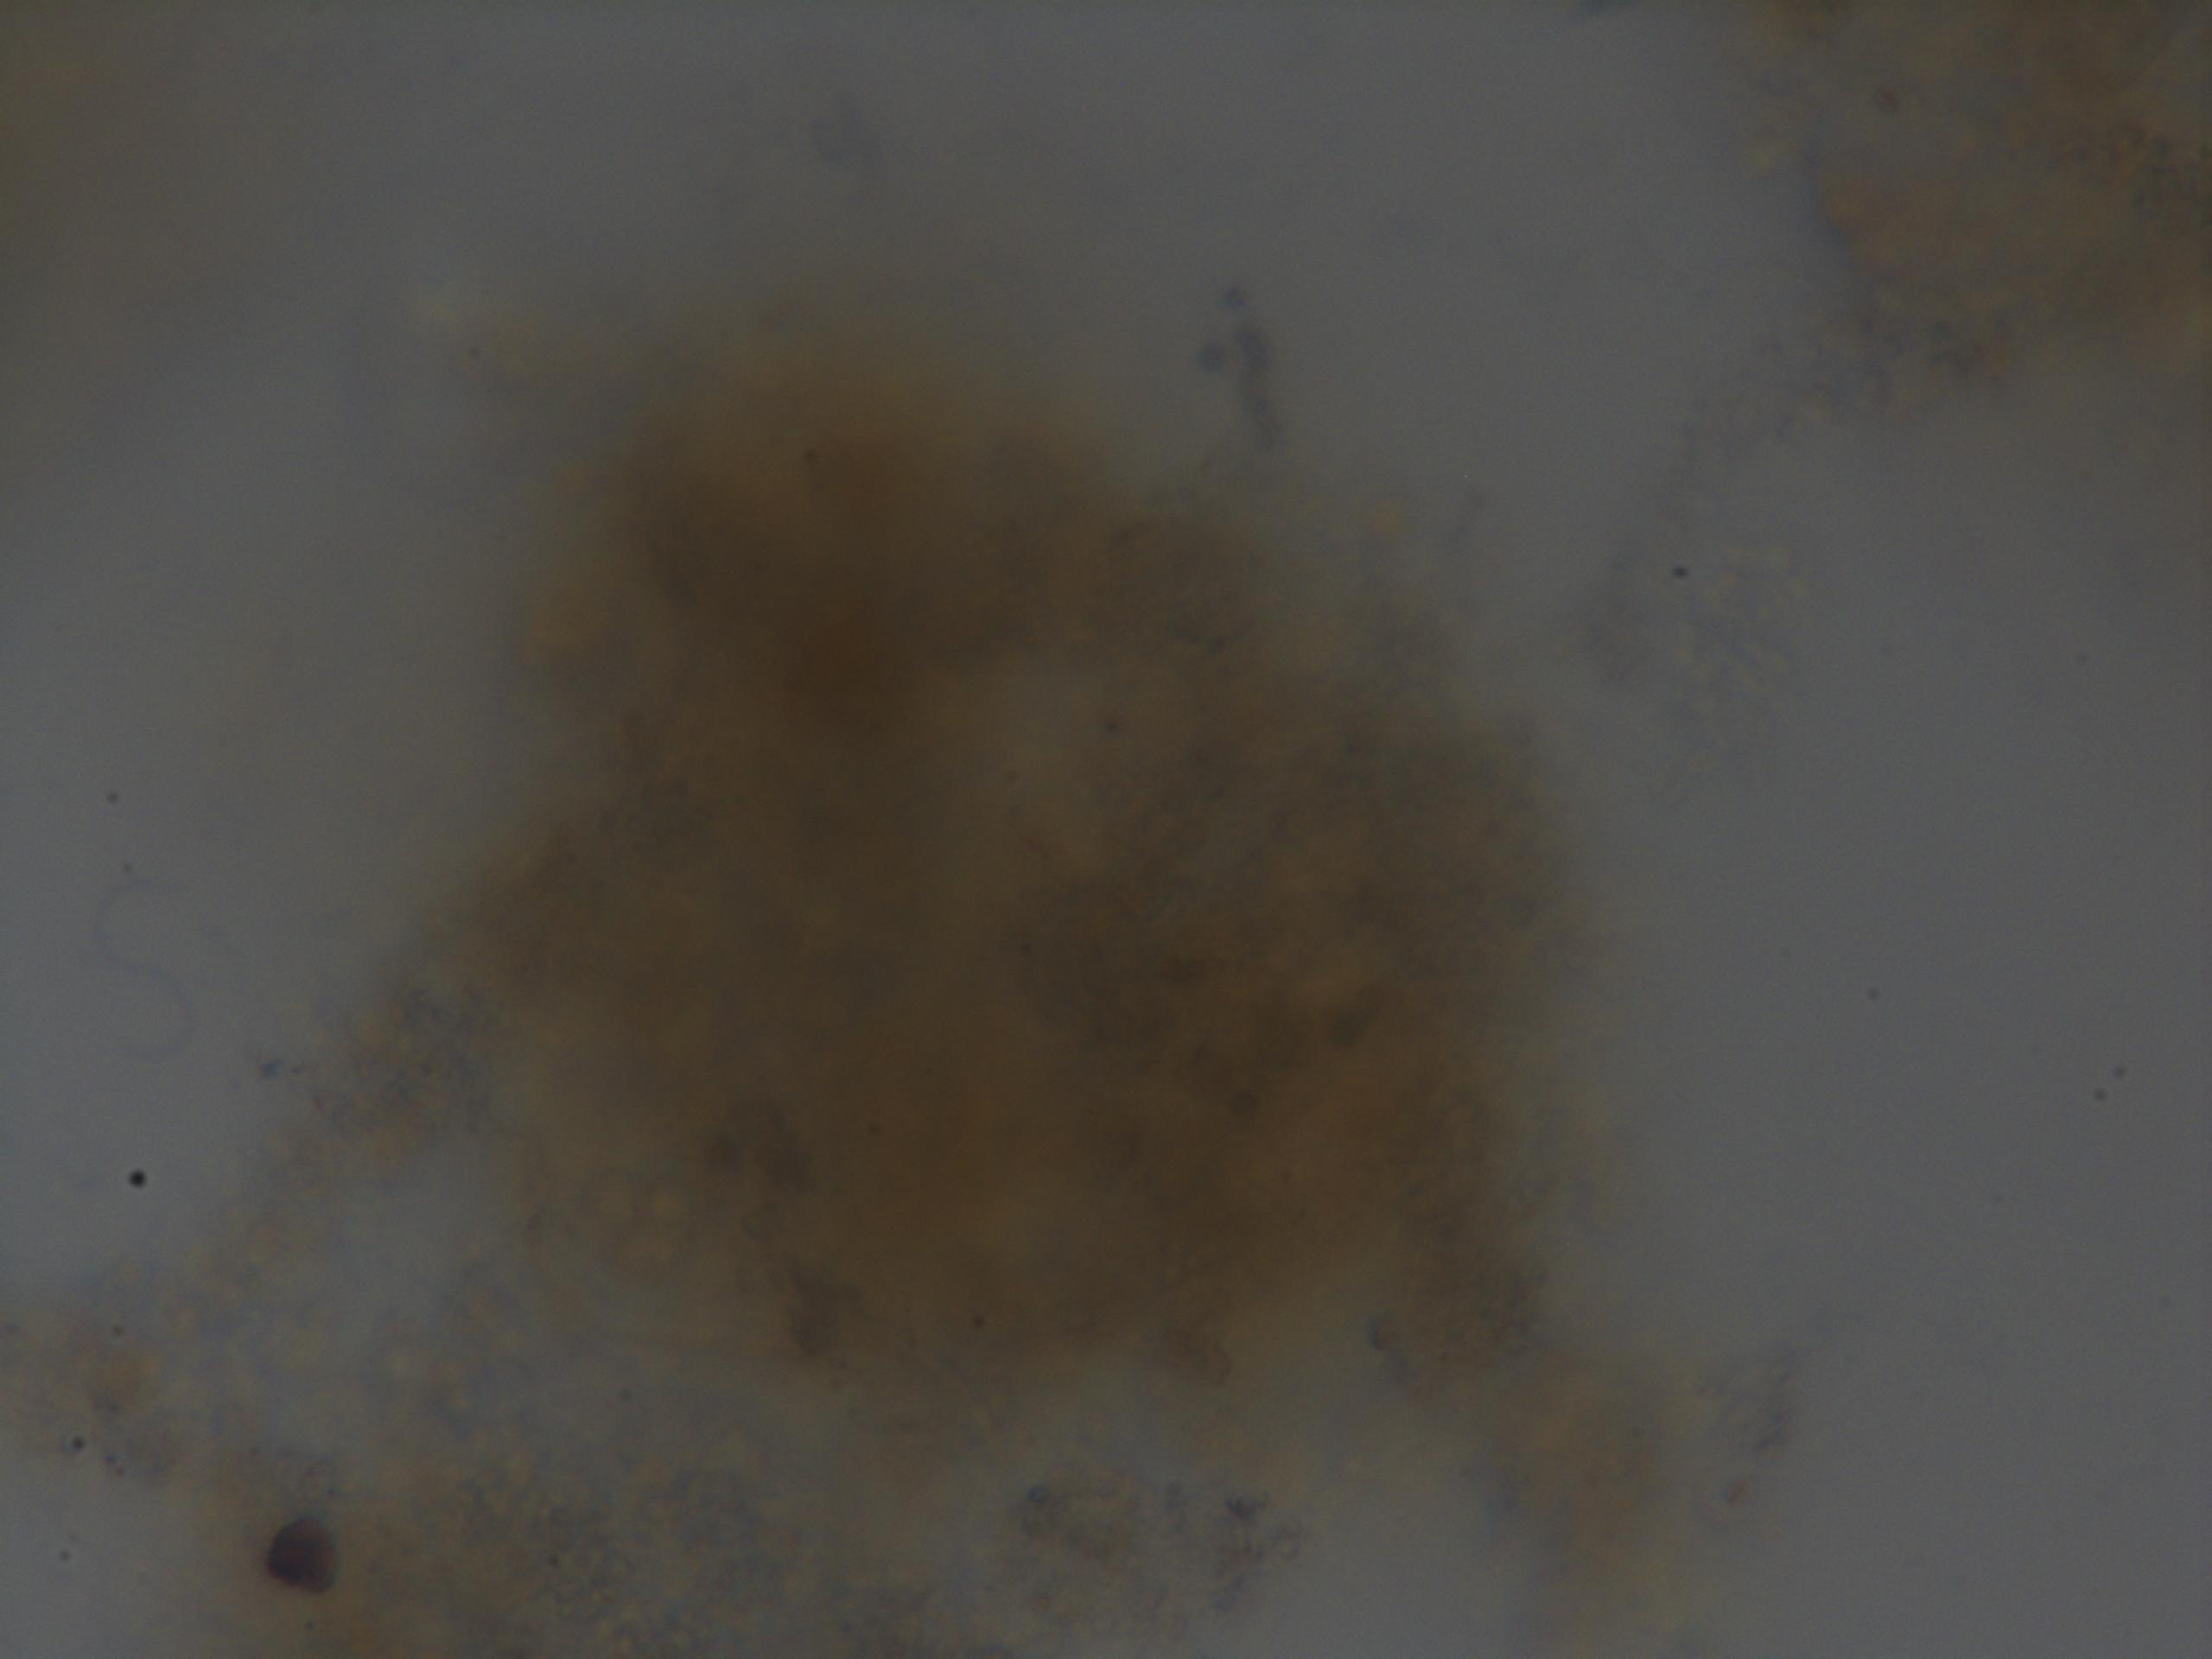spherical_floc: (427, 321, 1630, 1486)
